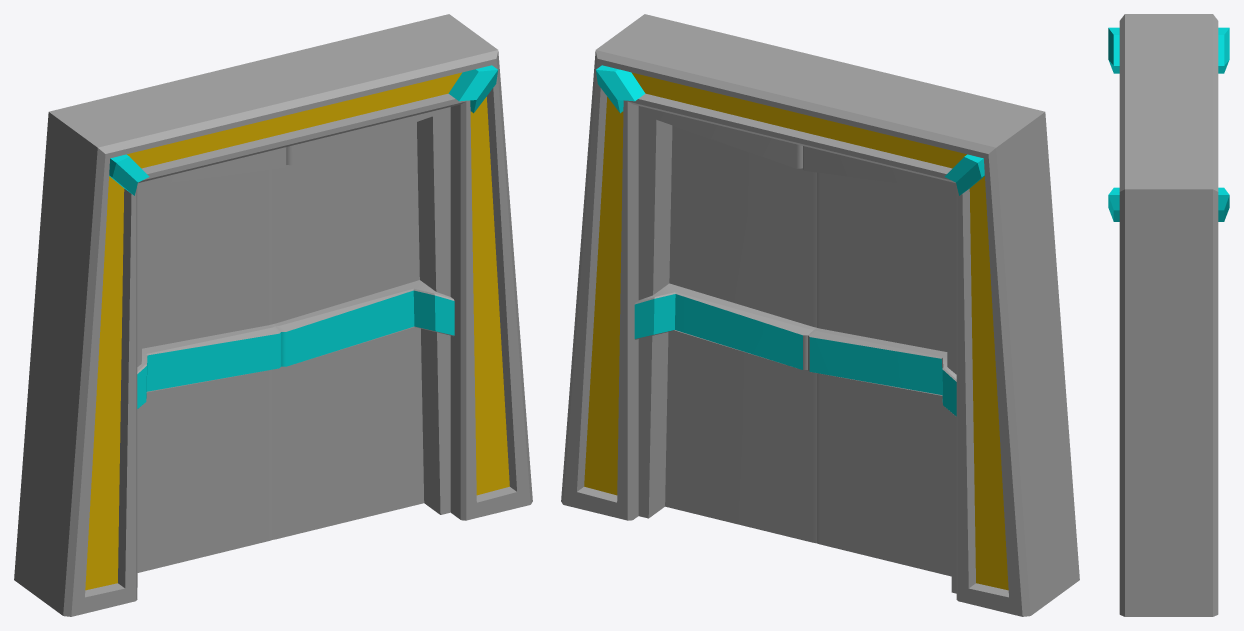
File: Door_Closed_1.fbx
The picture shows the model from 3 angles, left to right: view 1: azimuth 30°, elevation 25°; view 2: azimuth 150°, elevation 25°; view 3: azimuth 270°, elevation 25°; orthographic projection. The views are drawn at different scales.
Parts seen in each view (by area): view 1: pCube2, pCube1; view 2: pCube2, pCube1; view 3: pCube1.
Boxes of the visible parts, x1=… form: pCube2: x1=137, y1=107, x2=454, y2=587; pCube1: x1=14, y1=14, x2=532, y2=616; pCube2: x1=634, y1=106, x2=956, y2=593; pCube1: x1=561, y1=14, x2=1079, y2=616; pCube1: x1=1108, y1=14, x2=1229, y2=616.
Bounding box in the file's own units: 757 × 708 × 189.
